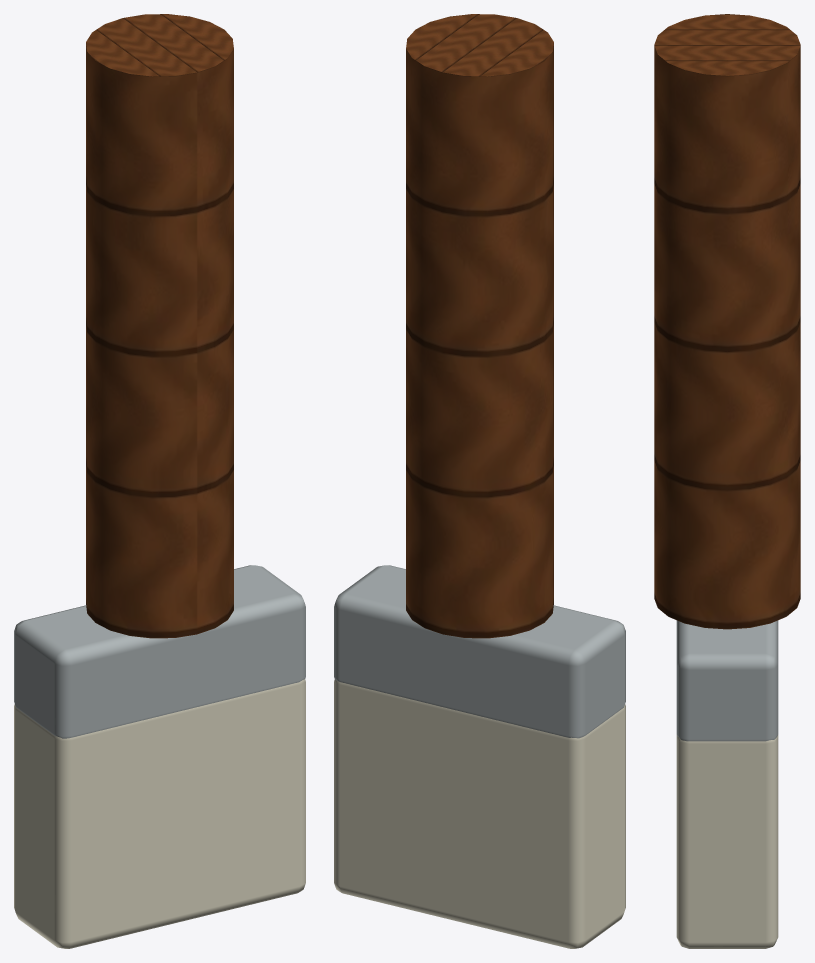
Rendered from prehistoric-expedition-sites-fossil-brush-54db0db1__26099.glb.
3 views of the same model, side by side, from view 1: azimuth 30°, elevation 25°; view 2: azimuth 150°, elevation 25°; view 3: azimuth 270°, elevation 25° (orthographic).
Visible parts, largest first — view 1: fossil-brush; view 2: fossil-brush; view 3: fossil-brush.
Boxes of the visible parts, <box> form: fossil-brush: <box>14,14,305,948</box>; fossil-brush: <box>334,14,625,948</box>; fossil-brush: <box>654,14,800,948</box>.
Size of the model in its own units: 0.07 by 0.23 by 0.036.
3 materials, 1 textured.
